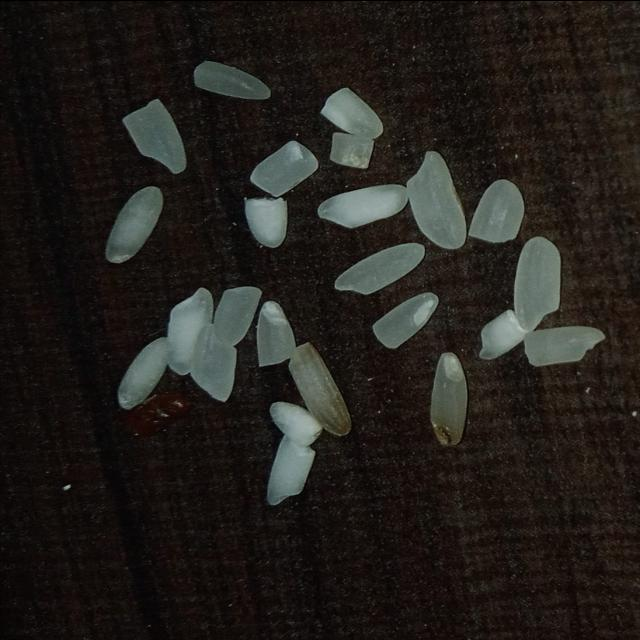Broken: (287, 341, 354, 435), (122, 98, 188, 174), (316, 182, 408, 227), (250, 140, 320, 198), (371, 291, 440, 349), (190, 324, 238, 402), (266, 433, 316, 505), (431, 350, 468, 446), (468, 178, 524, 241), (524, 324, 606, 366), (320, 86, 384, 136), (194, 58, 272, 98), (213, 284, 262, 346), (256, 300, 296, 366), (479, 309, 528, 359), (270, 400, 324, 445), (244, 195, 288, 248), (330, 131, 376, 168)
Full: (407, 150, 467, 248), (334, 242, 425, 294), (105, 185, 164, 262), (514, 236, 562, 330), (168, 286, 215, 374), (116, 336, 170, 410)
